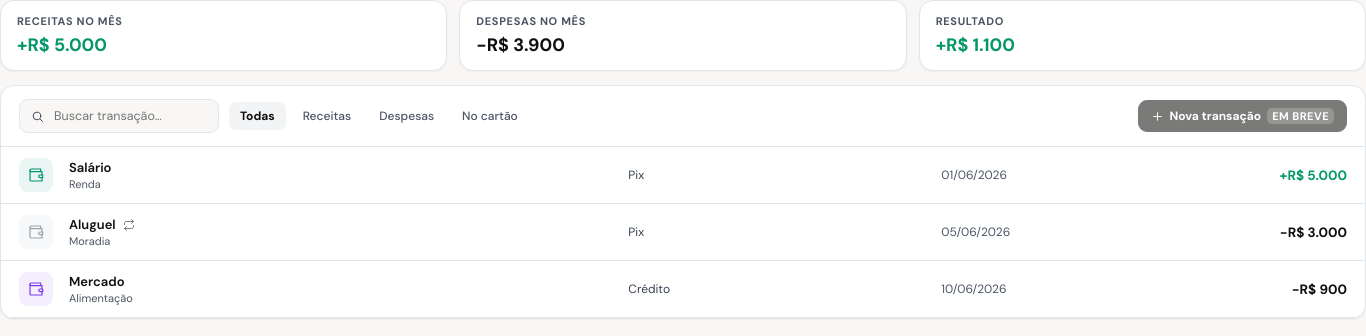
Test: ConsultantClientTransactionsTab › filtra por 'No cartão'
The width and height of the screenshot is (1366, 336).
Click the button "No cartão". click: click(490, 116)
box: [451,102,529,130]
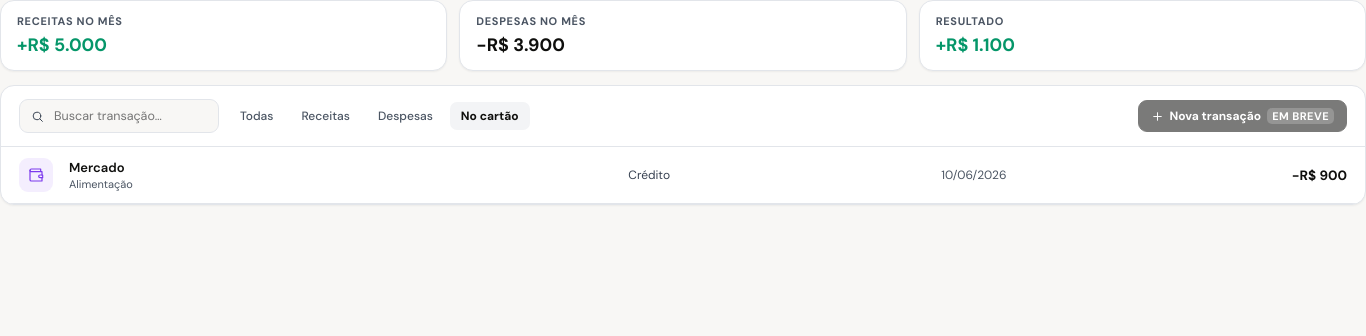
Expected: the text "Mercado" is shown, [69,159,124,176]
Now the text "Aluguel" is gone
